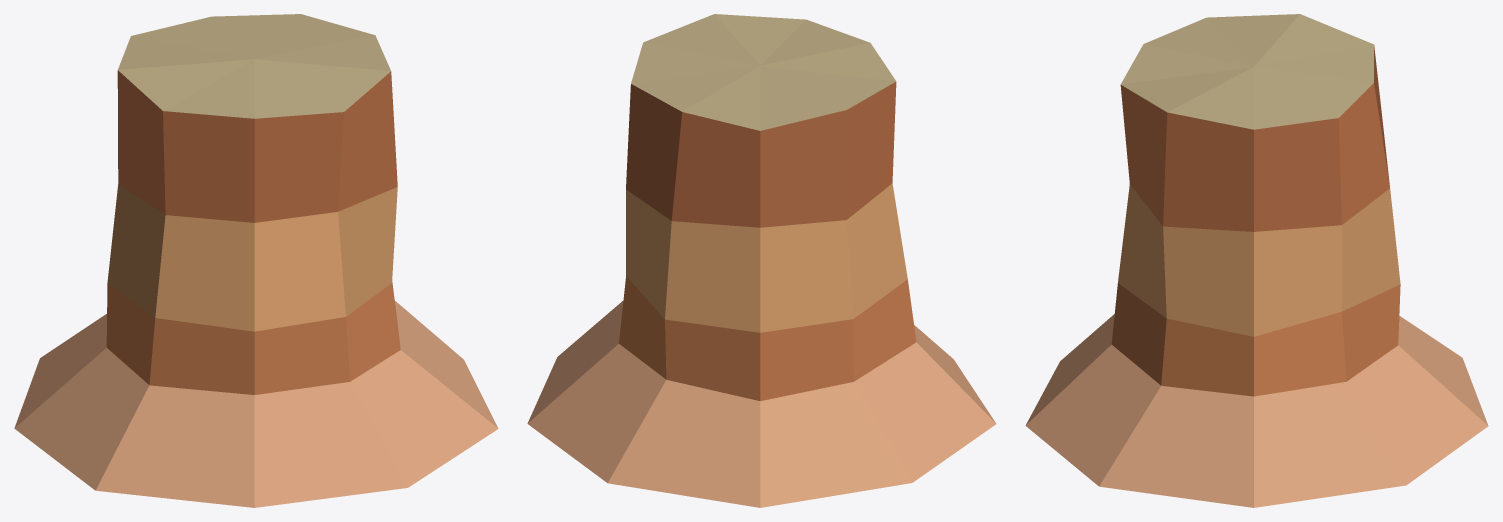
The model's file is butte.glb.
The picture shows the model from 3 angles, left to right: view 1: azimuth 30°, elevation 25°; view 2: azimuth 150°, elevation 25°; view 3: azimuth 270°, elevation 25°; orthographic projection. The views are drawn at different scales.
Parts seen in each view (by area): view 1: butte; view 2: butte; view 3: butte.
Part boxes in pixels (x1,y1,x2,y2): butte: (14, 14, 498, 507); butte: (527, 14, 996, 507); butte: (1025, 14, 1488, 507).
Bounding box in the file's own units: 19.81 × 16.2 × 19.9.
